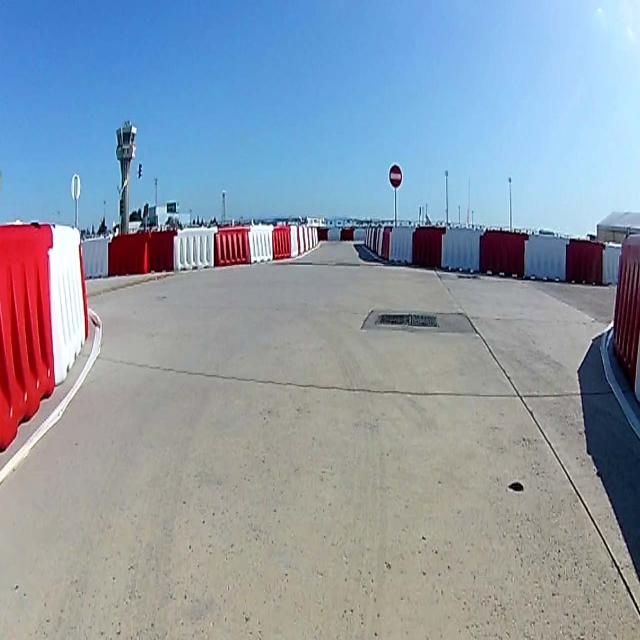girisyok: (388, 163, 403, 188)
